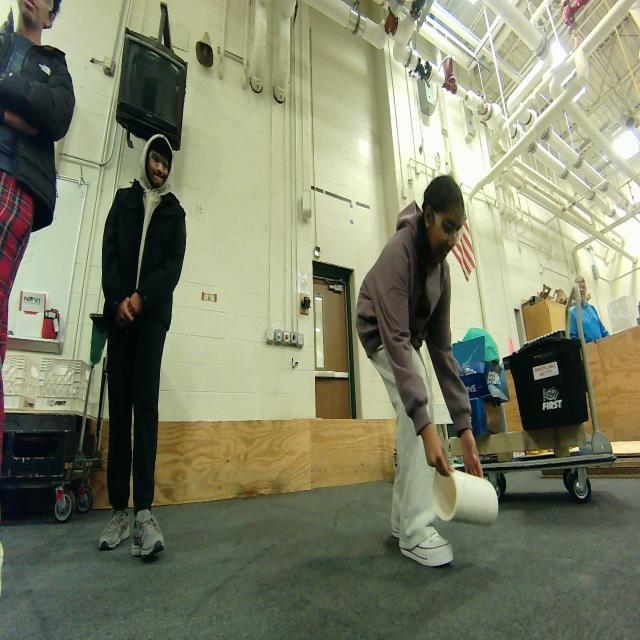coral: (433, 465, 498, 526)
